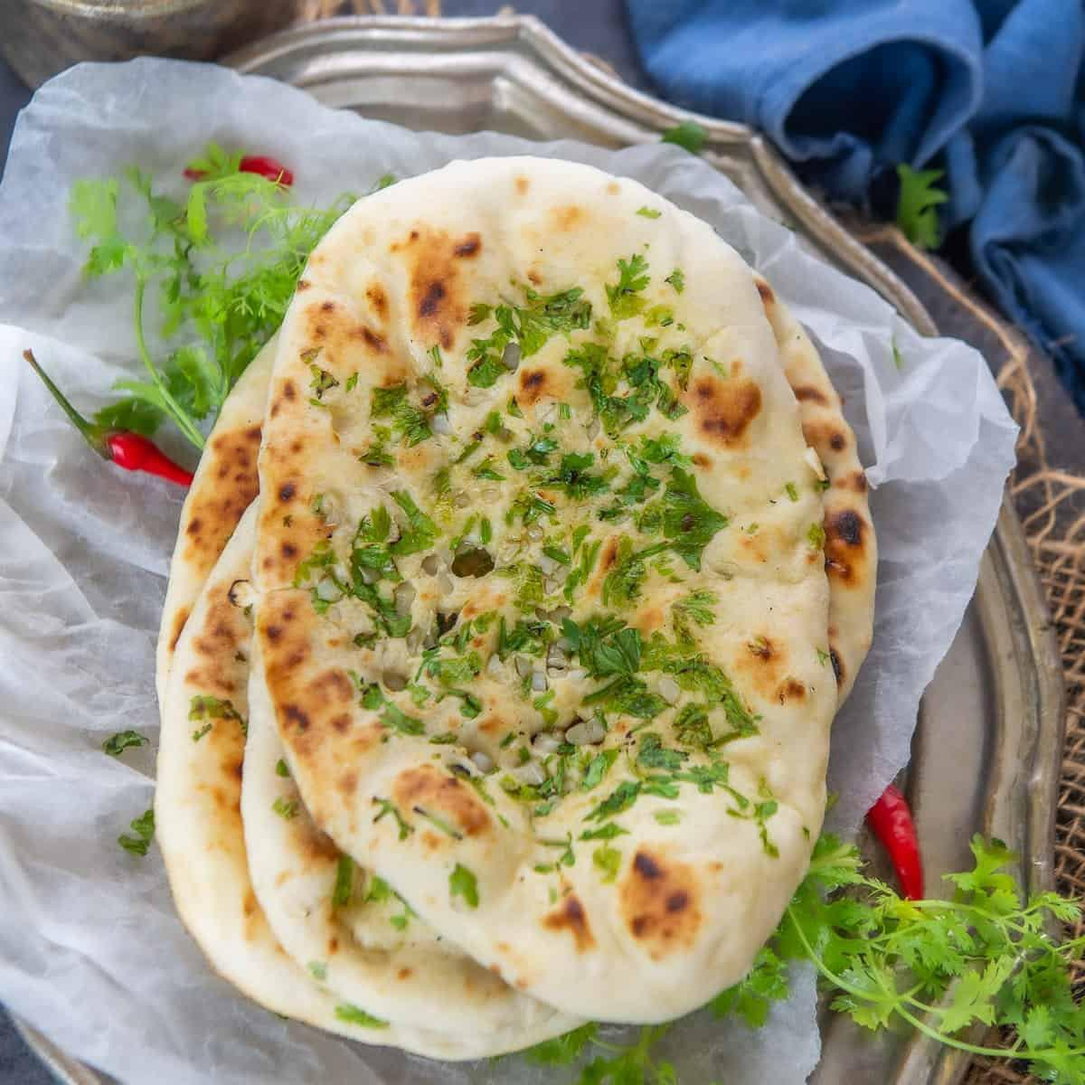Naan: (136, 127, 889, 1048)
